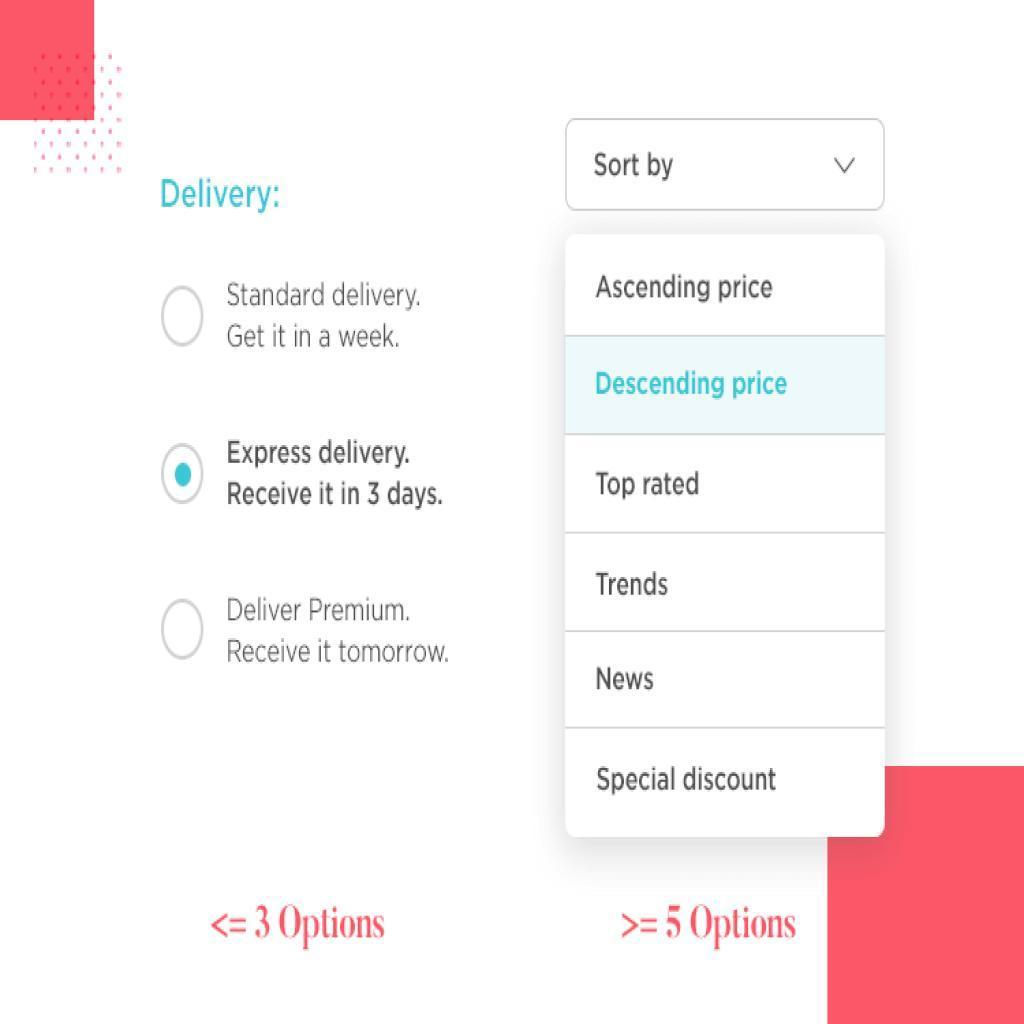button: (565, 727, 886, 838), (564, 234, 886, 336), (565, 337, 887, 434), (565, 533, 887, 630), (566, 631, 886, 727), (565, 437, 887, 531)
dropdown: (564, 119, 887, 213)
label: (152, 178, 286, 221)
radio: (159, 599, 207, 665), (161, 442, 207, 507), (160, 285, 205, 349)
